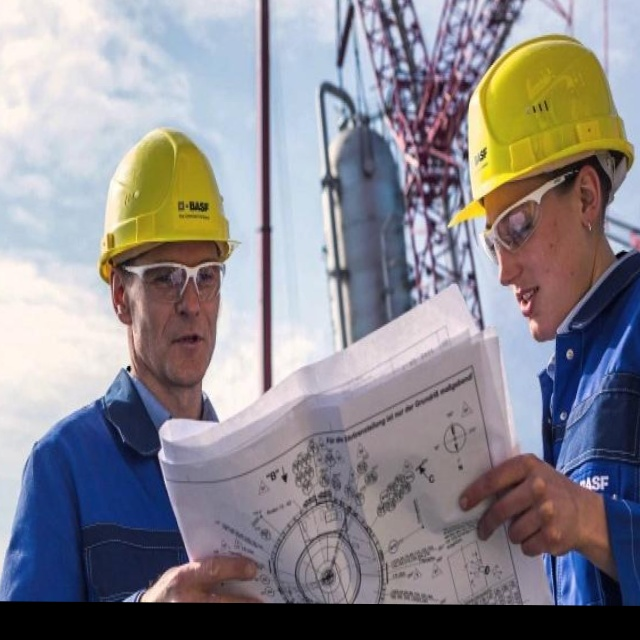Con_Casco: (469, 38, 624, 319), (100, 129, 232, 379)
